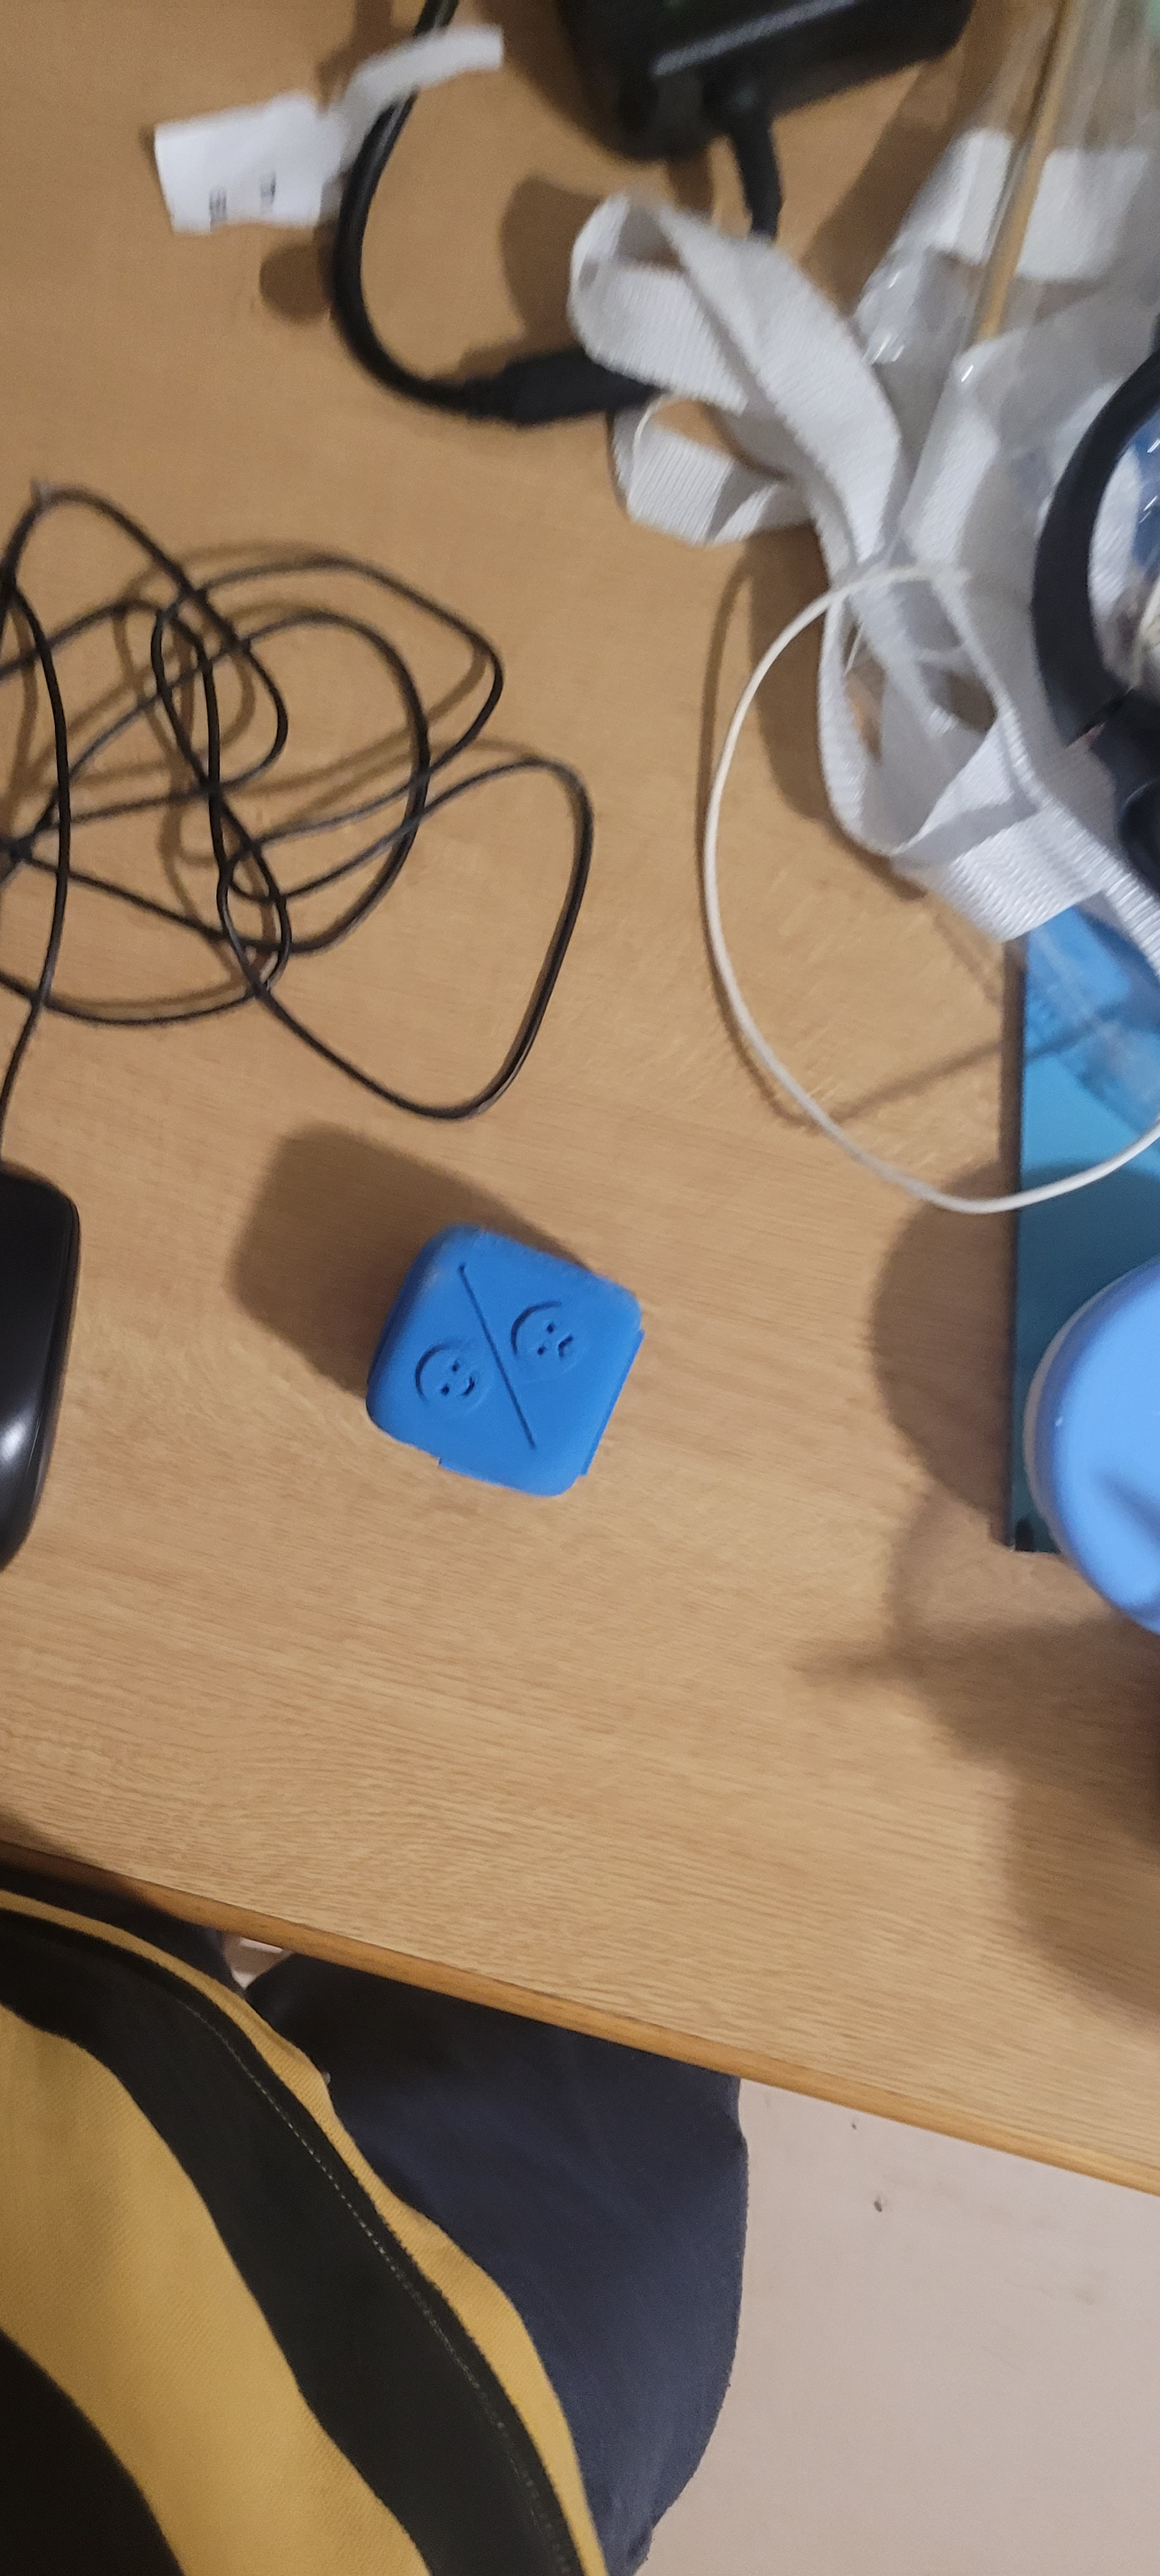Like/Dislike: (389, 1222, 626, 1483)
